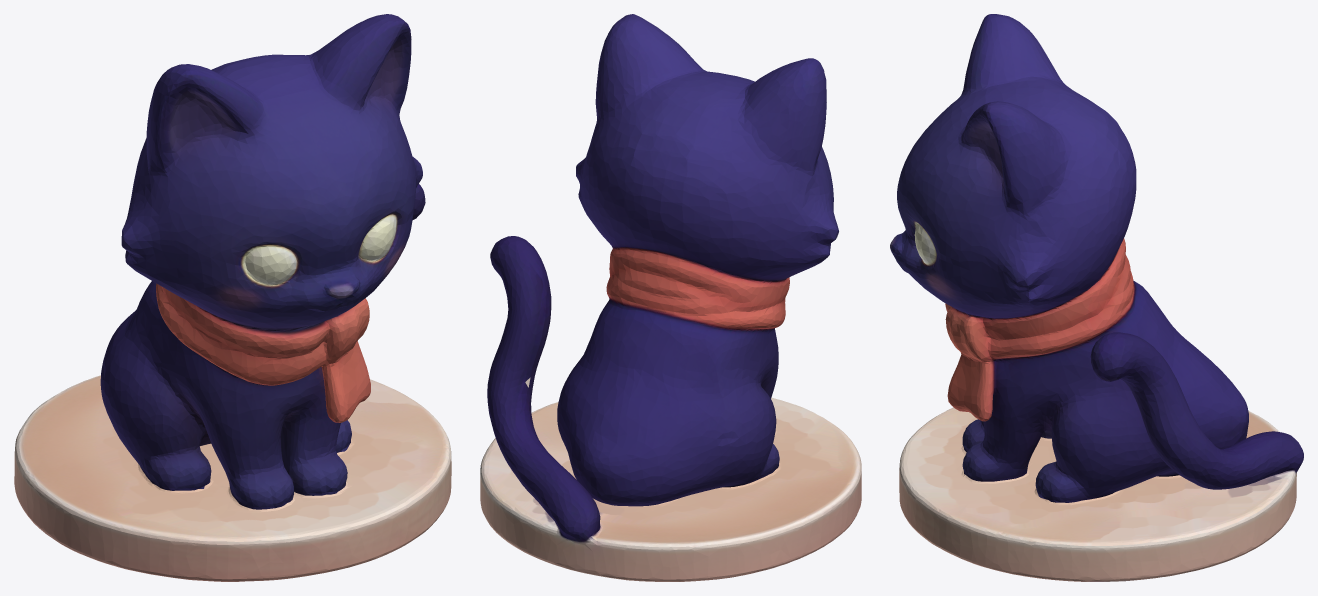
The model's file is fig-32.glb.
3 views of the same model, side by side, from view 1: azimuth 30°, elevation 25°; view 2: azimuth 150°, elevation 25°; view 3: azimuth 270°, elevation 25° (orthographic). The views are drawn at different scales.
Visible parts, largest first — view 1: tmp89of_wof.ply; view 2: tmp89of_wof.ply; view 3: tmp89of_wof.ply.
Boxes of the visible parts, <box> form: tmp89of_wof.ply: <box>14,14,451,581</box>; tmp89of_wof.ply: <box>480,14,861,581</box>; tmp89of_wof.ply: <box>890,14,1303,581</box>.
Bounding box in the file's own units: 1.63 × 1.99 × 1.69.
1 material, 1 textured.
